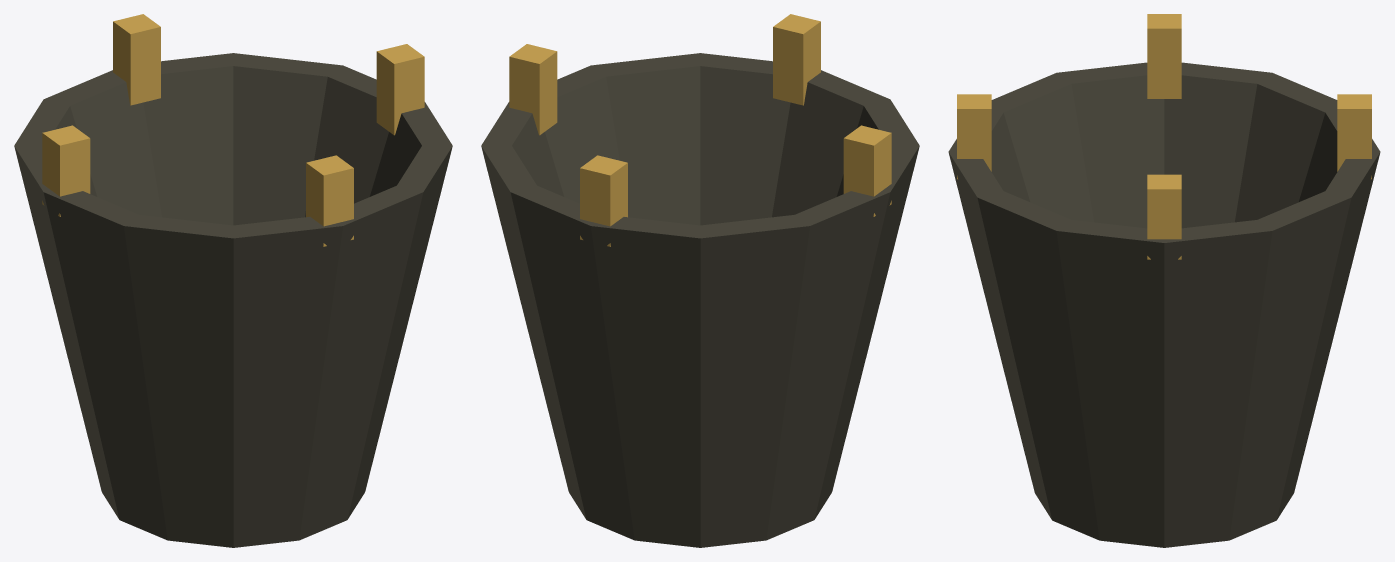
The model's file is brazier.glb.
3 views of the same model, side by side, from view 1: azimuth 30°, elevation 25°; view 2: azimuth 150°, elevation 25°; view 3: azimuth 270°, elevation 25° (orthographic).
Visible parts, largest first — view 1: Brazier hollow bowl, Brazier rim brass.001, Brazier rim brass, Brazier rim brass.002, Brazier rim brass.003; view 2: Brazier hollow bowl, Brazier rim brass.003, Brazier rim brass, Brazier rim brass.002, Brazier rim brass.001; view 3: Brazier hollow bowl, Brazier rim brass.002, Brazier rim brass.001, Brazier rim brass.003, Brazier rim brass.
Part boxes in pixels (x1=…): Brazier hollow bowl: x1=14, y1=53, x2=452, y2=547; Brazier rim brass.001: x1=113, y1=14, x2=160, y2=105; Brazier rim brass: x1=376, y1=44, x2=424, y2=135; Brazier rim brass.002: x1=42, y1=125, x2=90, y2=216; Brazier rim brass.003: x1=306, y1=155, x2=353, y2=246; Brazier hollow bowl: x1=481, y1=53, x2=919, y2=547; Brazier rim brass.003: x1=773, y1=14, x2=820, y2=105; Brazier rim brass: x1=509, y1=44, x2=557, y2=135; Brazier rim brass.002: x1=843, y1=125, x2=891, y2=216; Brazier rim brass.001: x1=580, y1=155, x2=627, y2=246; Brazier hollow bowl: x1=948, y1=62, x2=1380, y2=547; Brazier rim brass.002: x1=1147, y1=14, x2=1181, y2=98; Brazier rim brass.001: x1=1337, y1=94, x2=1371, y2=179; Brazier rim brass.003: x1=957, y1=94, x2=991, y2=179; Brazier rim brass: x1=1147, y1=174, x2=1181, y2=259.
Bounding box in the file's own units: 1 × 1 × 1.
